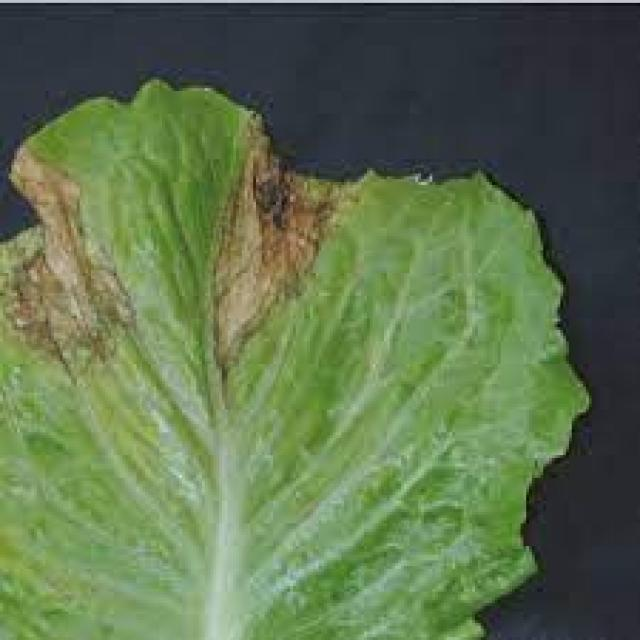Downy_mildew_on_lettuce: (11, 135, 332, 392)
